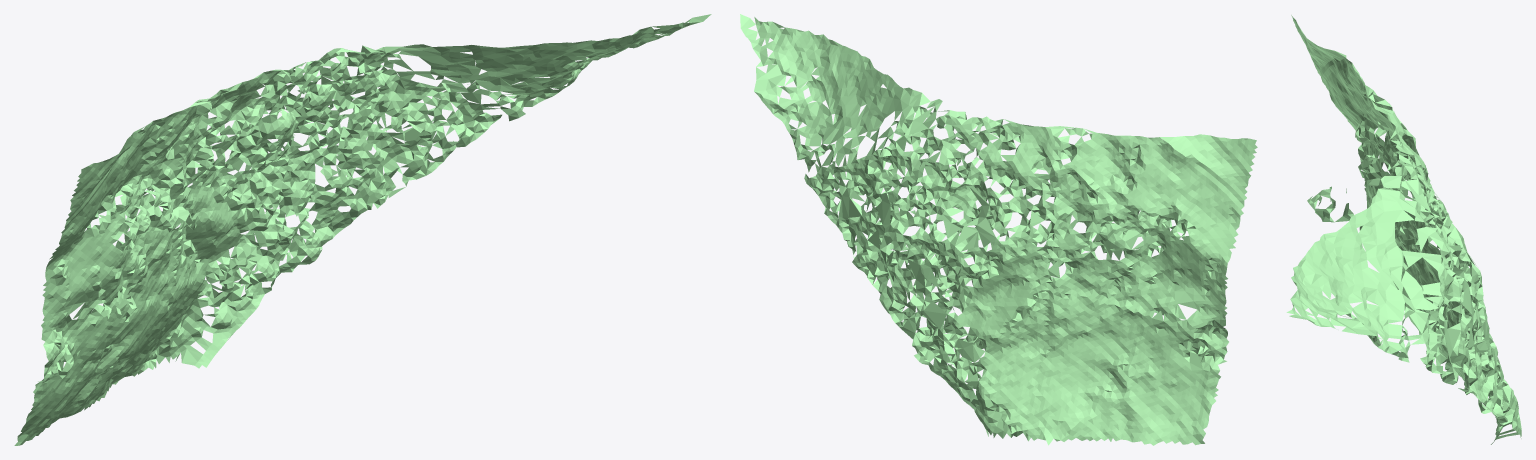
Rendered from tile_3.glb.
3 renders of one model, left to right at view 1: azimuth 30°, elevation 25°; view 2: azimuth 150°, elevation 25°; view 3: azimuth 270°, elevation 25°, orthographic. The views are drawn at different scales.
Bounding box in the file's own units: 56.81 × 28.29 × 18.48.
